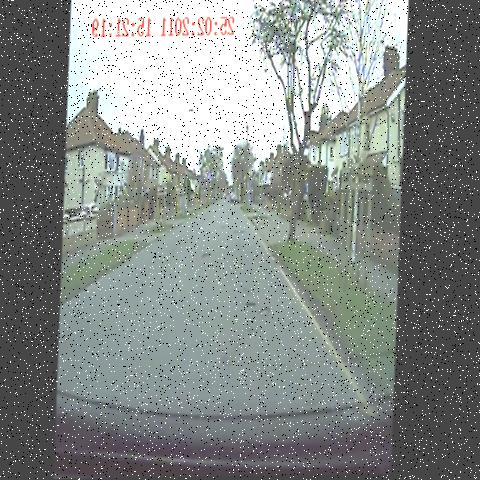pothole: (240, 284, 260, 318), (259, 290, 276, 325), (233, 221, 251, 240), (201, 248, 218, 265), (219, 221, 230, 234)
